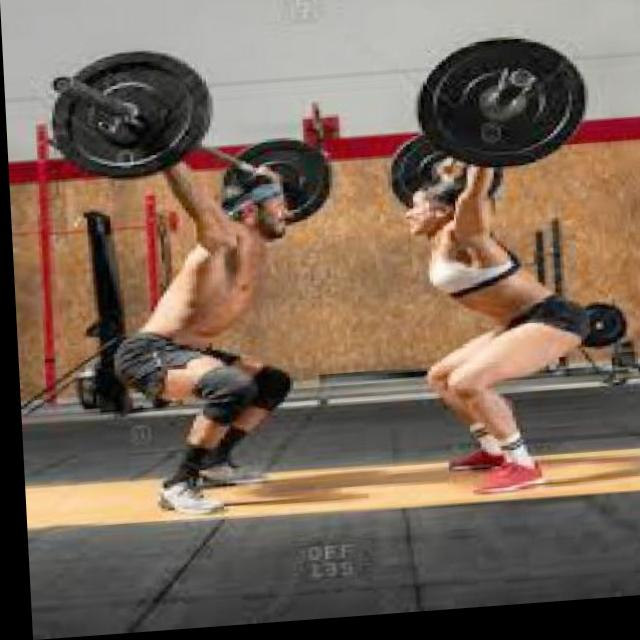barbell: (408, 39, 595, 190), (49, 48, 214, 188)
